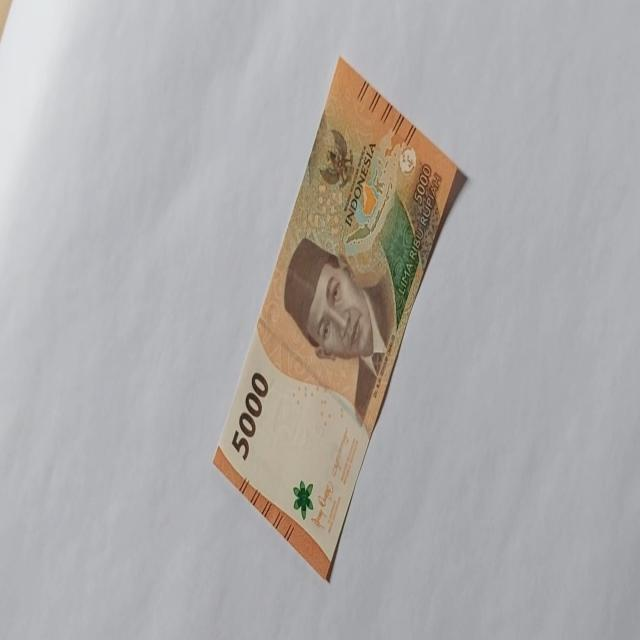lima ribu rupiah: (212, 55, 468, 581), (282, 234, 396, 423)
